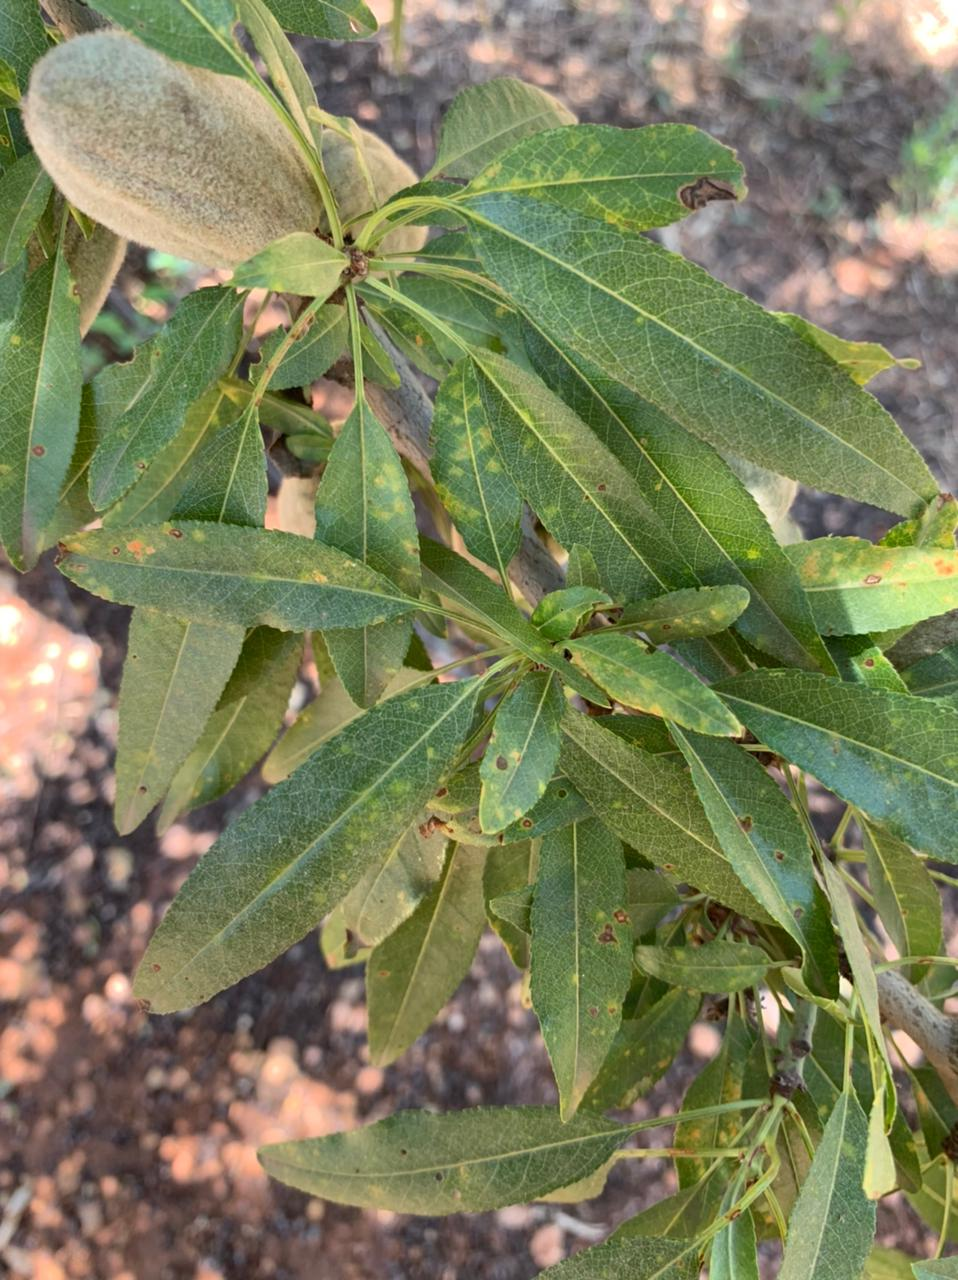rouille: (662, 717, 841, 1002), (52, 517, 420, 635), (528, 776, 636, 1125), (448, 115, 751, 238), (783, 533, 956, 638), (478, 663, 568, 834)
